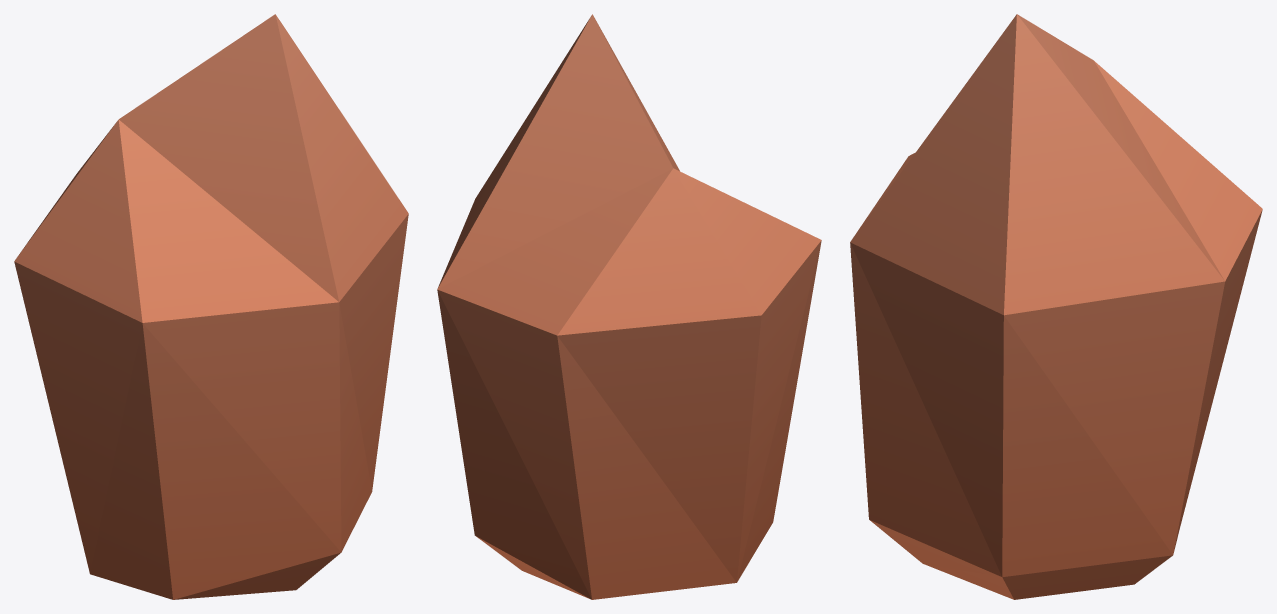
The model's file is Crystal_14.fbx.
3 views of the same model, side by side, from view 1: azimuth 30°, elevation 25°; view 2: azimuth 150°, elevation 25°; view 3: azimuth 270°, elevation 25° (orthographic). The views are drawn at different scales.
Parts seen in each view (by area): view 1: Crystal_14; view 2: Crystal_14; view 3: Crystal_14.
Boxes of the visible parts, x1=… form: Crystal_14: x1=14, y1=14, x2=408, y2=599; Crystal_14: x1=437, y1=14, x2=821, y2=599; Crystal_14: x1=850, y1=14, x2=1262, y2=599.
Size of the model in its own units: 0.3478 by 0.5177 by 0.3446.
